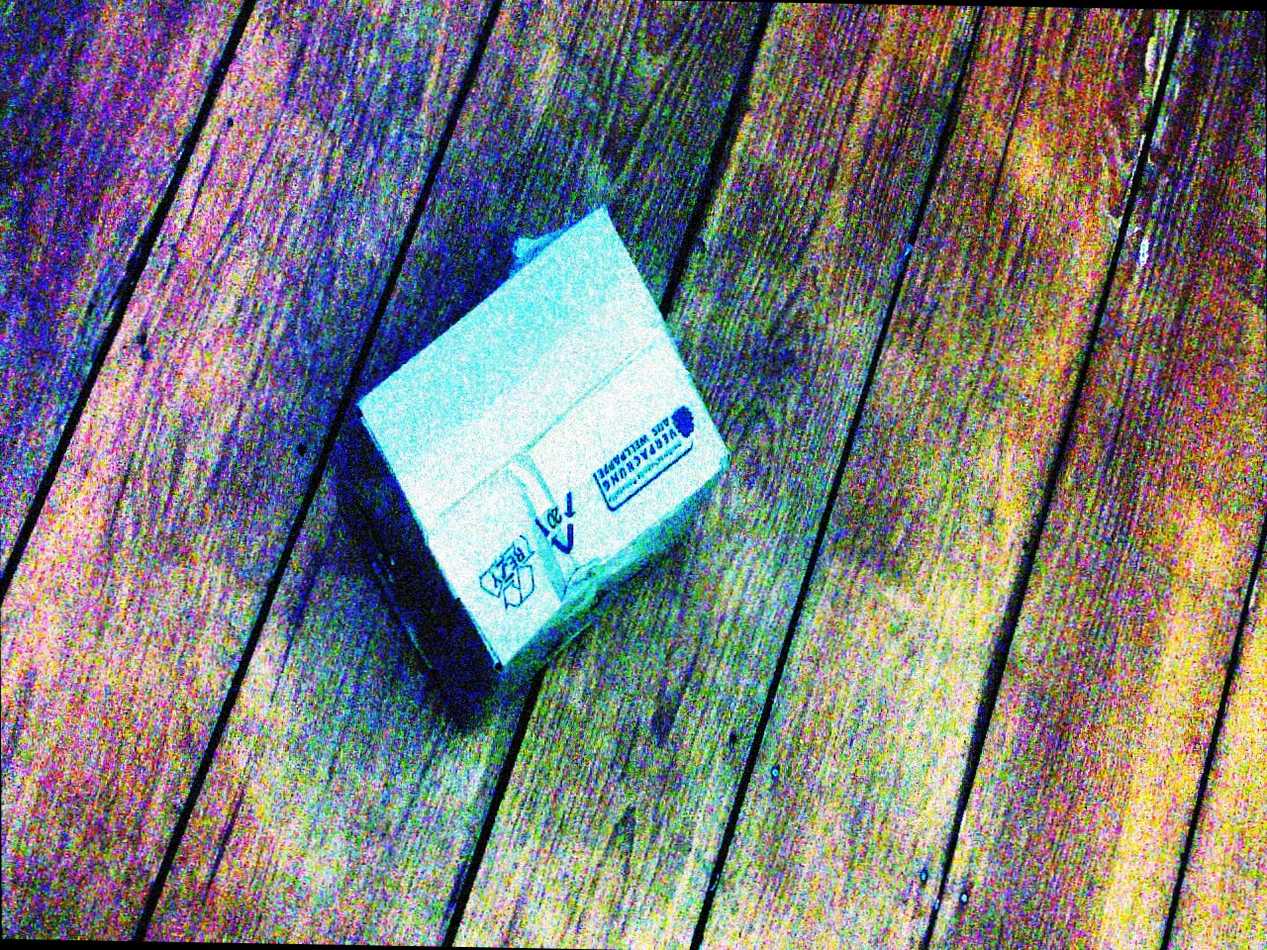good-parcel: (320, 188, 771, 704)
